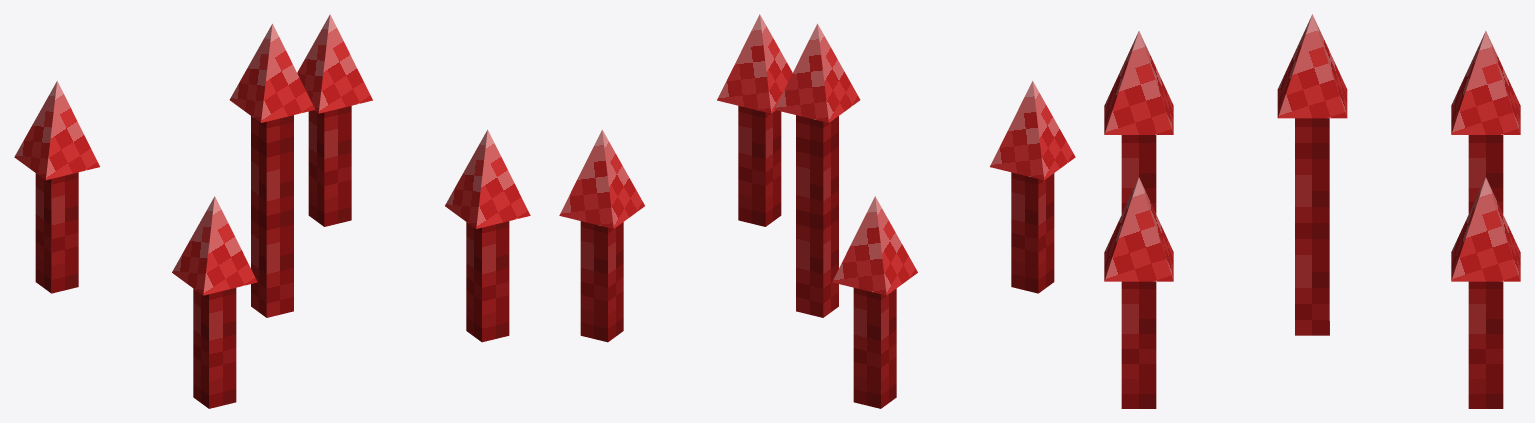
File: Spikes_Kill.glb
3 renders of one model, left to right at view 1: azimuth 30°, elevation 25°; view 2: azimuth 150°, elevation 25°; view 3: azimuth 270°, elevation 25°, orthographic. The views are drawn at different scales.
Visible parts, largest first — view 1: spike; view 2: spike; view 3: spike.
Part boxes in pixels (x1,y1,x2,y2): spike: (14, 14, 530, 408); spike: (559, 14, 1075, 408); spike: (1104, 14, 1520, 408).
Bounding box in the file's own units: 0.75 × 0.625 × 0.75.
1 material, 1 textured.
